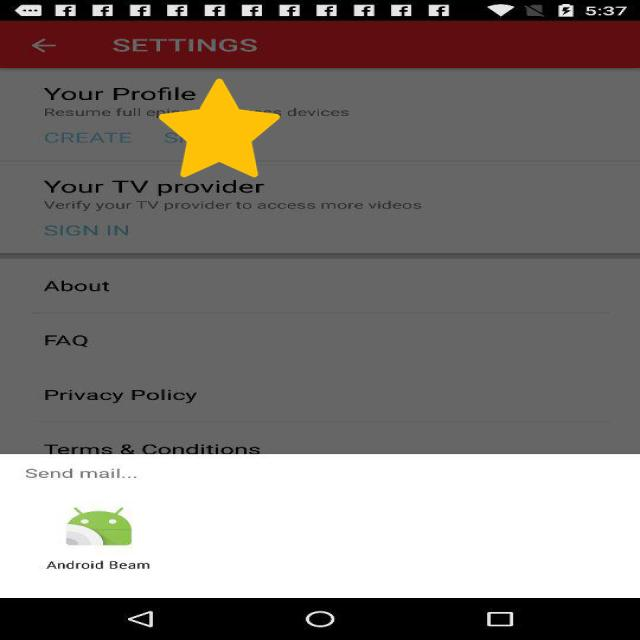forced continuity: (159, 79, 280, 177)
